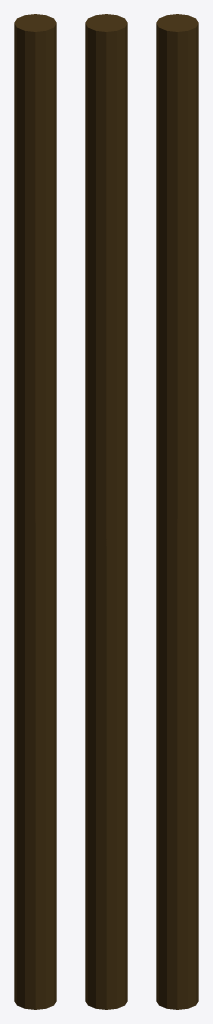
Rendered from stick.fbx.
The picture shows the model from 3 angles, left to right: view 1: azimuth 90°, elevation 25°; view 2: azimuth 150°, elevation 25°; view 3: azimuth 270°, elevation 25°; orthographic projection.
Visible parts, largest first — view 1: stick; view 2: stick; view 3: stick.
Boxes of the visible parts, box(x1,y1,x2,y2) form: stick: box(14, 14, 56, 1009); stick: box(85, 14, 127, 1009); stick: box(156, 14, 198, 1009).
Bounding box in the file's own units: 6.07 × 154 × 6.07.
